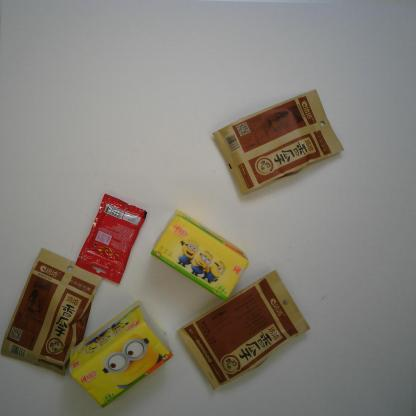Candy: (74, 193, 149, 285)
Dried Food: (175, 270, 311, 391), (211, 87, 346, 196), (0, 246, 104, 377)
Tissue: (68, 298, 174, 410), (150, 209, 249, 302)
